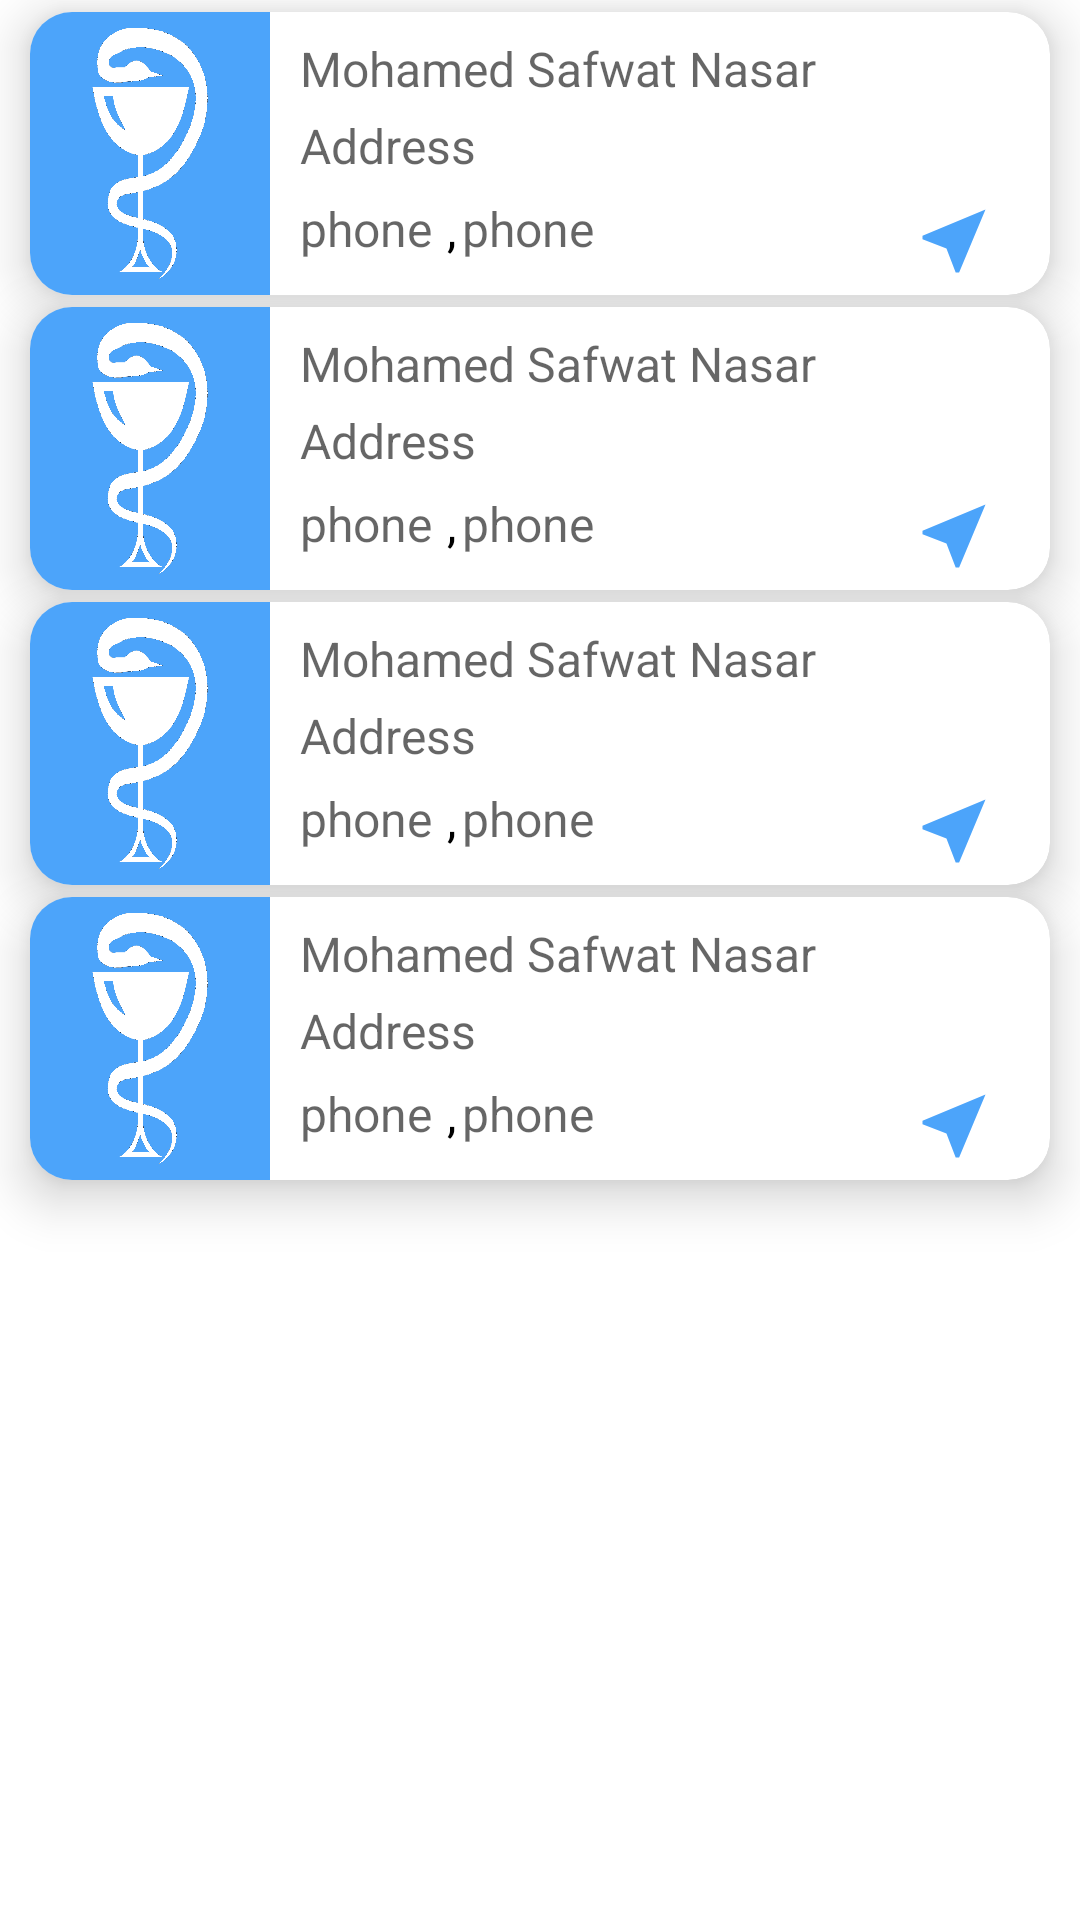

Where icons sit on this 1080x1920 app screen, as Rect(x1, y1, x2, y2):
near me: Rect(922, 209, 986, 273), Rect(922, 504, 986, 568), Rect(922, 799, 986, 863), Rect(922, 1094, 986, 1158)
pharmacy: Rect(30, 12, 270, 295), Rect(30, 307, 270, 590), Rect(30, 602, 270, 885), Rect(30, 897, 270, 1180)
